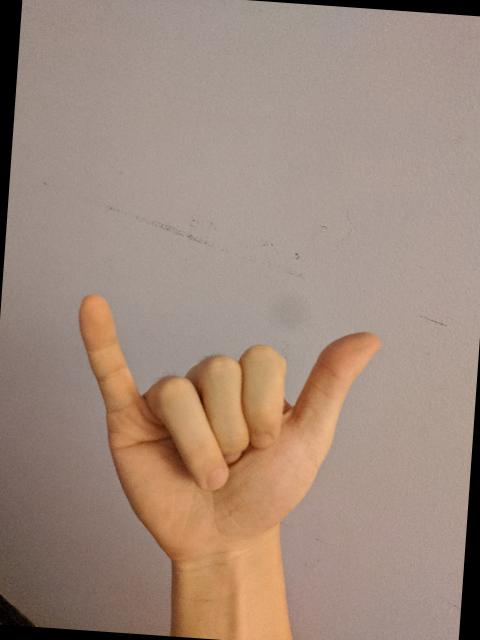Y: (57, 287, 388, 573)
